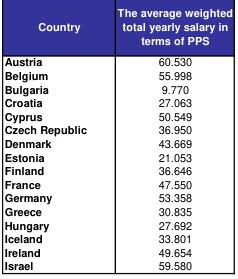table: (3, 4, 231, 272)
table column: (101, 4, 231, 272), (3, 4, 101, 272)
table column header: (3, 4, 231, 50)
table row: (3, 4, 231, 50), (3, 50, 231, 67), (3, 67, 231, 81), (3, 81, 231, 95), (3, 108, 231, 122), (3, 135, 231, 149), (3, 149, 231, 163), (3, 176, 231, 190), (3, 203, 231, 217), (3, 217, 231, 231), (3, 244, 231, 258), (3, 258, 231, 272), (3, 95, 231, 108), (3, 122, 231, 135), (3, 163, 231, 176), (3, 190, 231, 203), (3, 231, 231, 244)
